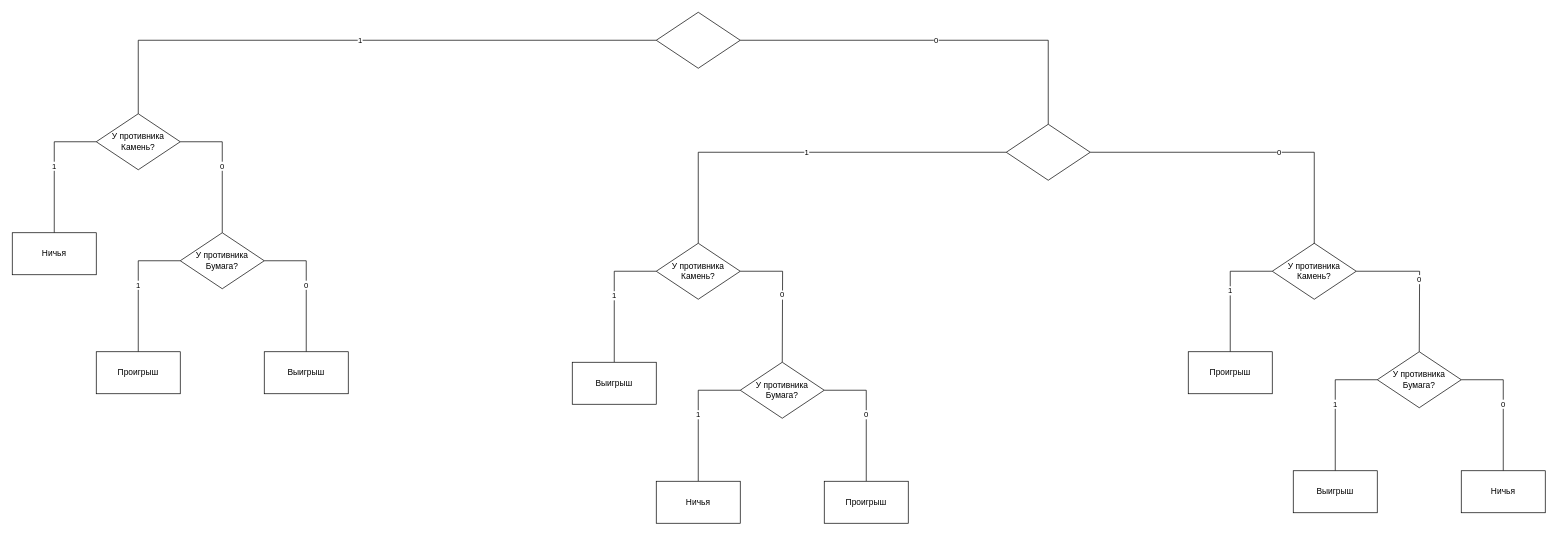
This 1558x536 diagram has some shape labels left out. Here are the shapes that lost their labels. From the top down, the box of each, then its label:
(656, 12, 740, 68): Камень?
(1006, 124, 1090, 180): Бумага?
